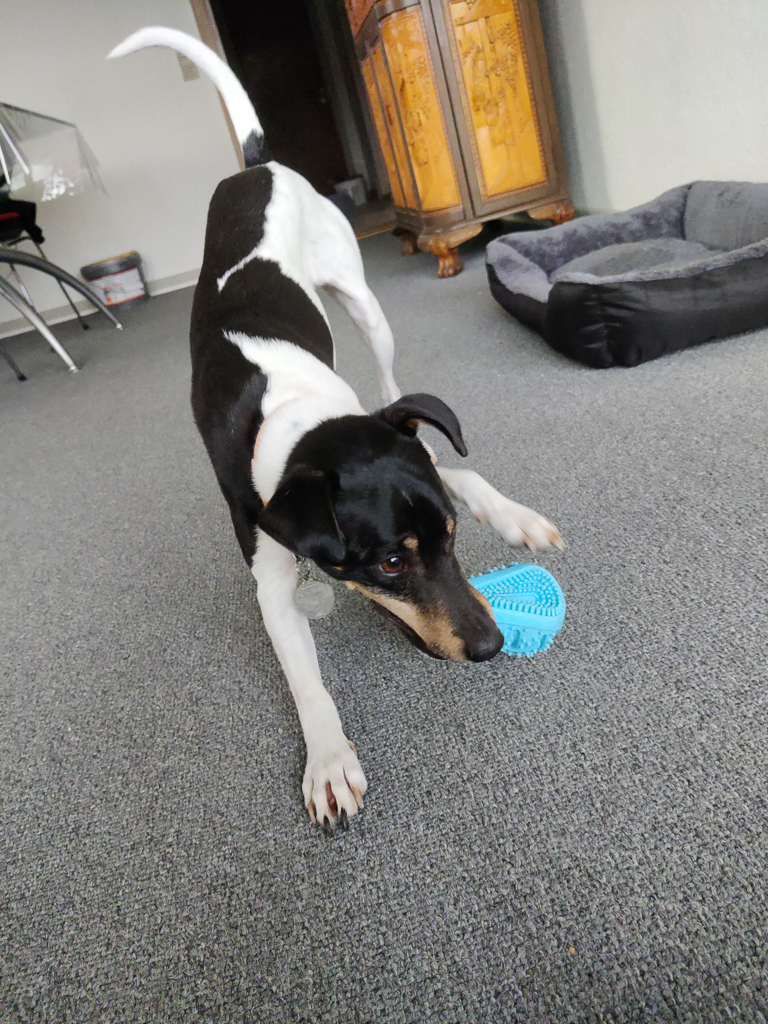Dog: (91, 11, 574, 858)
